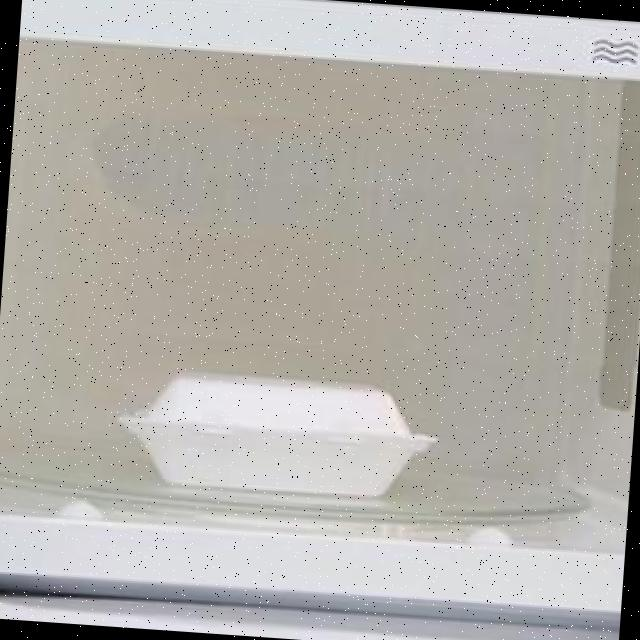styrofoam: (110, 363, 440, 501)
